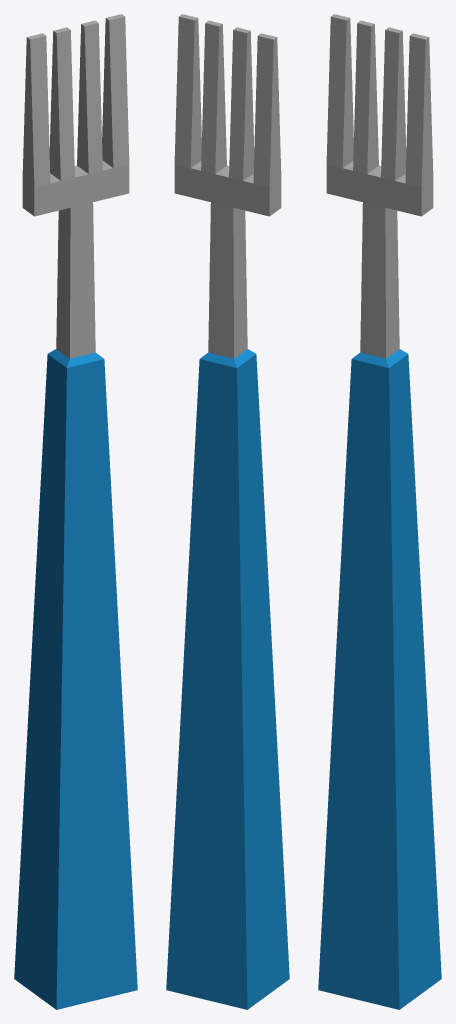
Rendered from Fork.fbx.
3 renders of one model, left to right at view 1: azimuth 30°, elevation 25°; view 2: azimuth 150°, elevation 25°; view 3: azimuth 330°, elevation 25°, orthographic.
Visible parts, largest first — view 1: Fork; view 2: Fork; view 3: Fork.
Part boxes in pixels (x1,y1,x2,y2): Fork: (14,14,137,1009); Fork: (166,14,289,1009); Fork: (318,14,441,1009).
Size of the model in its own units: 37.2 by 360 by 28.69.
